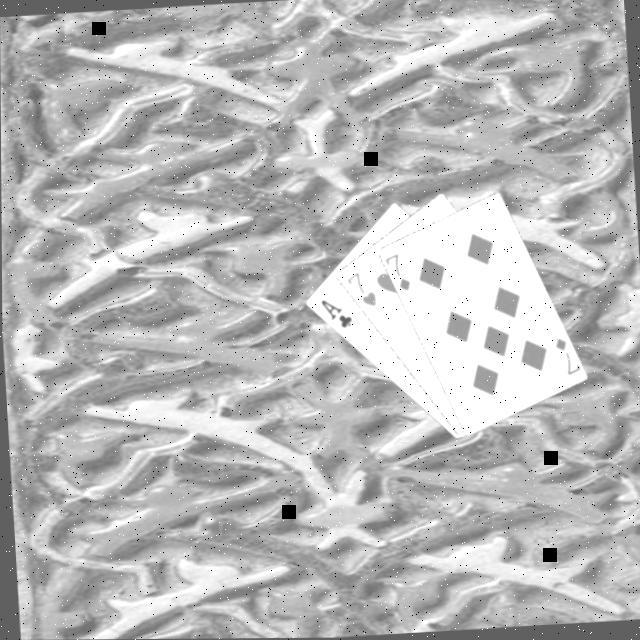7D: (382, 250, 412, 296), (550, 336, 580, 380)
7H: (342, 268, 378, 312)
AC: (316, 296, 354, 334)
